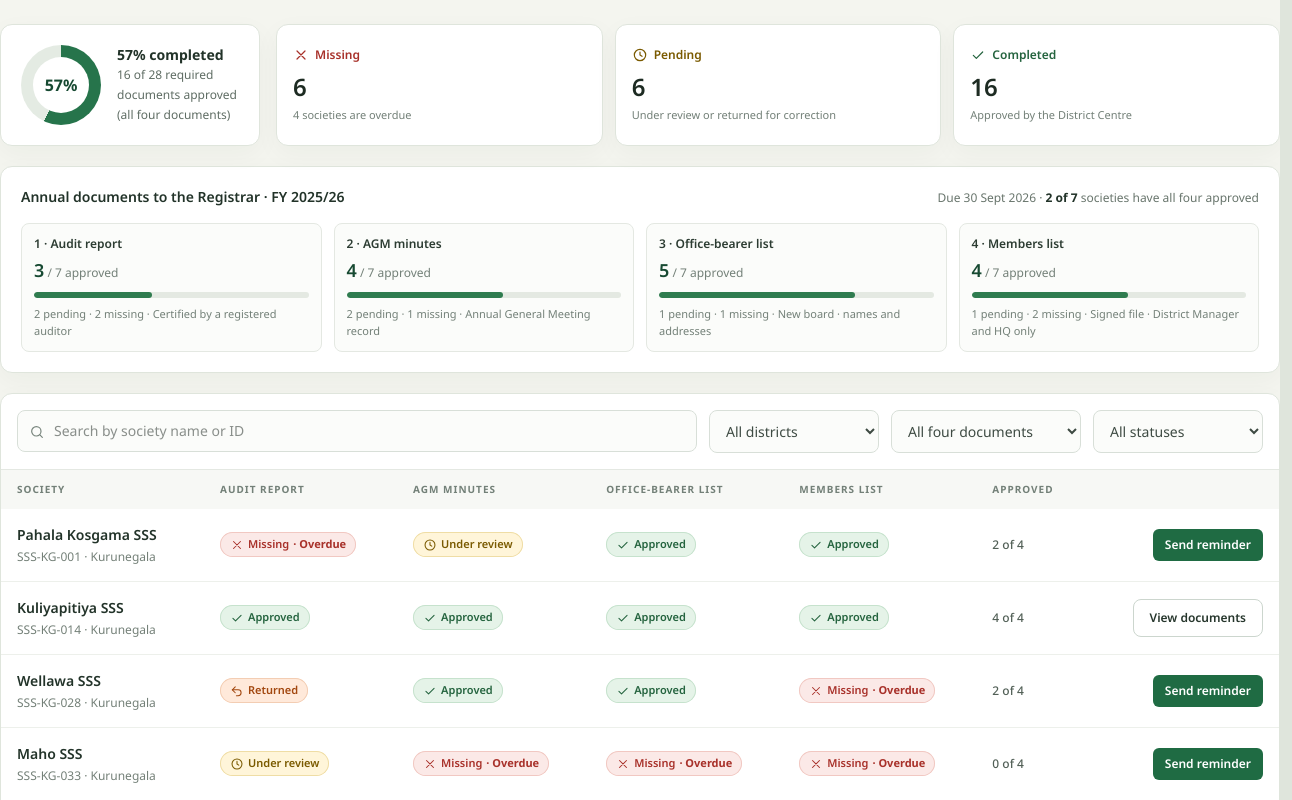
Test case: ComplianceOverview › records a reminder for a society with missing documents
This screenshot has width=1292, height=800.
What coordinates should you click on to do the following:
click the button with aria-label "Send reminder to Maho Sarvodaya Shramadana Society"
I would click on:
 (1208, 764)
Its box is [1153,748,1263,780].
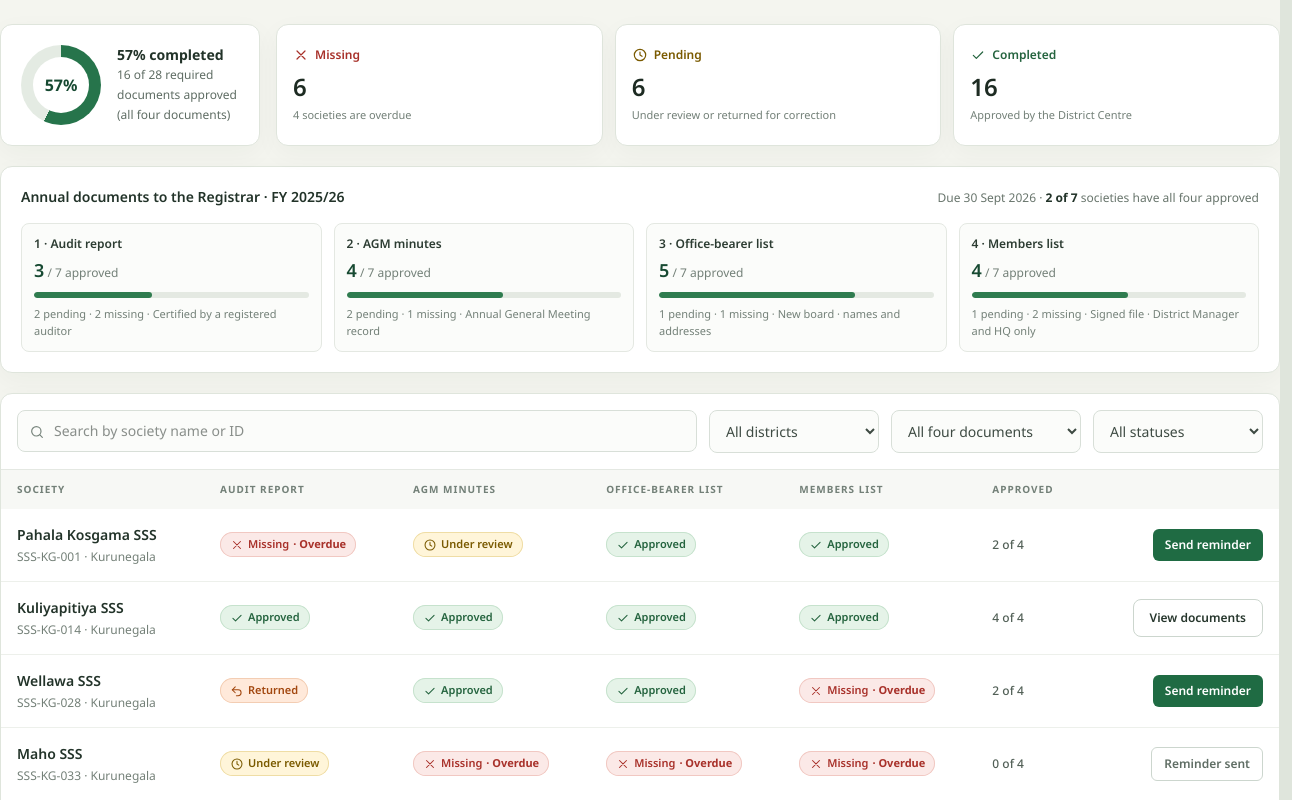
Now the button with aria-label "Reminder sent to Maho Sarvodaya Shramadana Society" is disabled, box [1151,747,1263,781]
